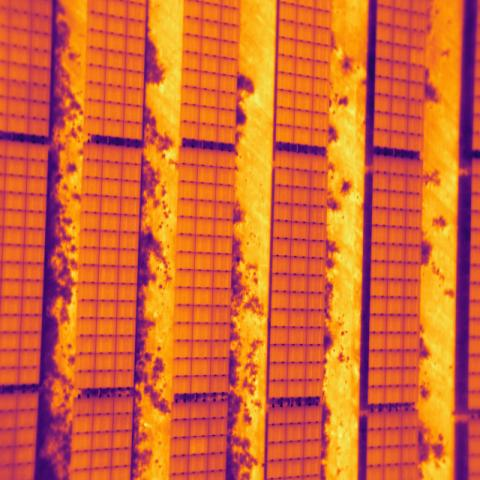fault: (189, 436, 208, 459), (409, 46, 426, 67)
